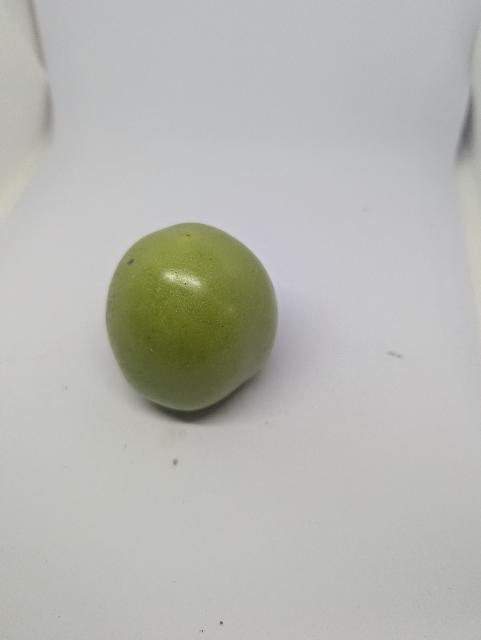green: (93, 209, 292, 427)
